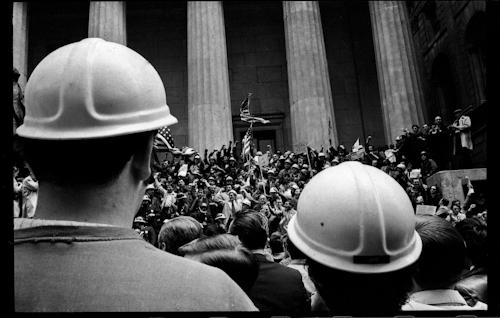helmet: (14, 41, 176, 141), (283, 162, 416, 273), (184, 148, 195, 156)
